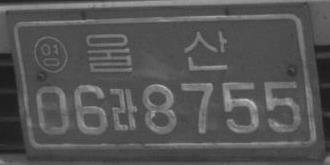0: (35, 83, 69, 137)
5: (262, 78, 301, 134), (221, 79, 260, 134)
6: (72, 83, 107, 136)
7: (180, 81, 213, 134)
8: (140, 82, 177, 135)
라: (109, 86, 137, 131)
영: (33, 34, 68, 75)
울산_D: (85, 29, 228, 74)
